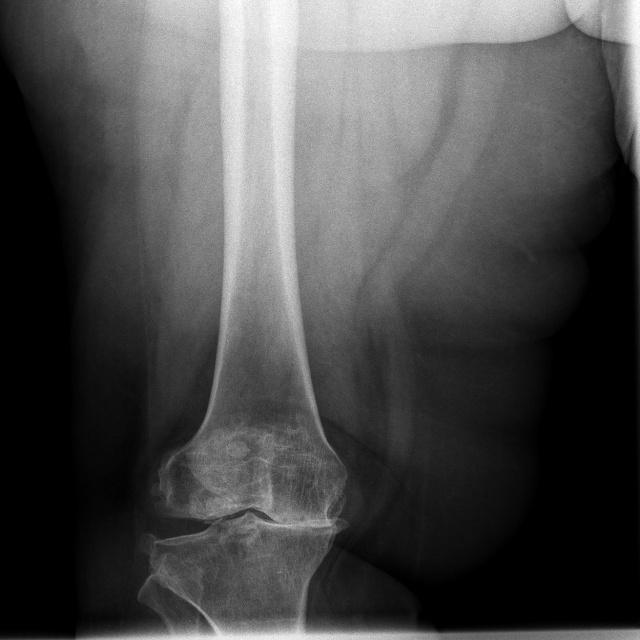Knee: (140, 409, 351, 590)
